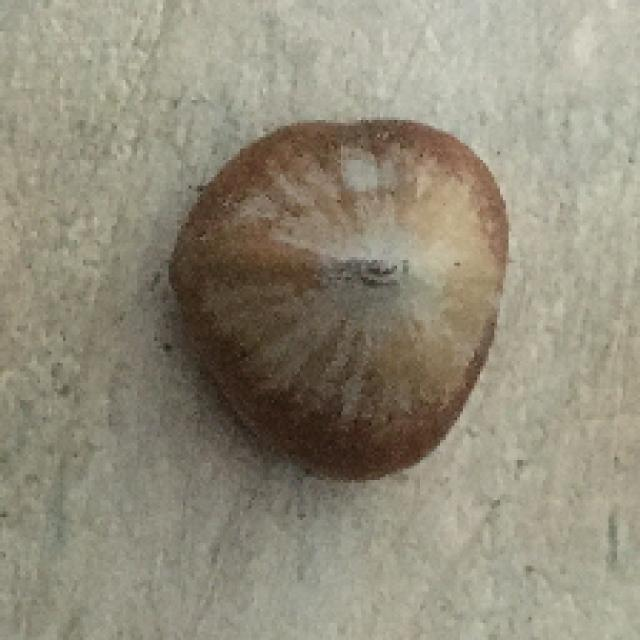qualityHazelnut: (171, 124, 514, 478)
